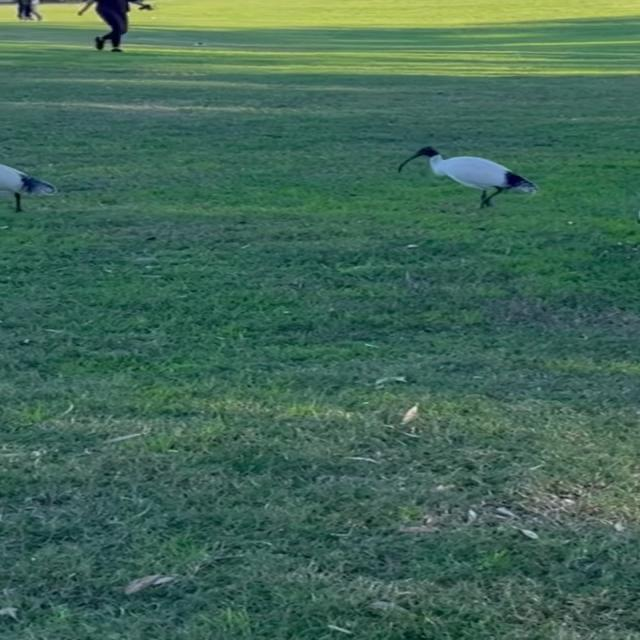Birds-Ibis: (393, 144, 539, 214), (0, 156, 61, 216)
